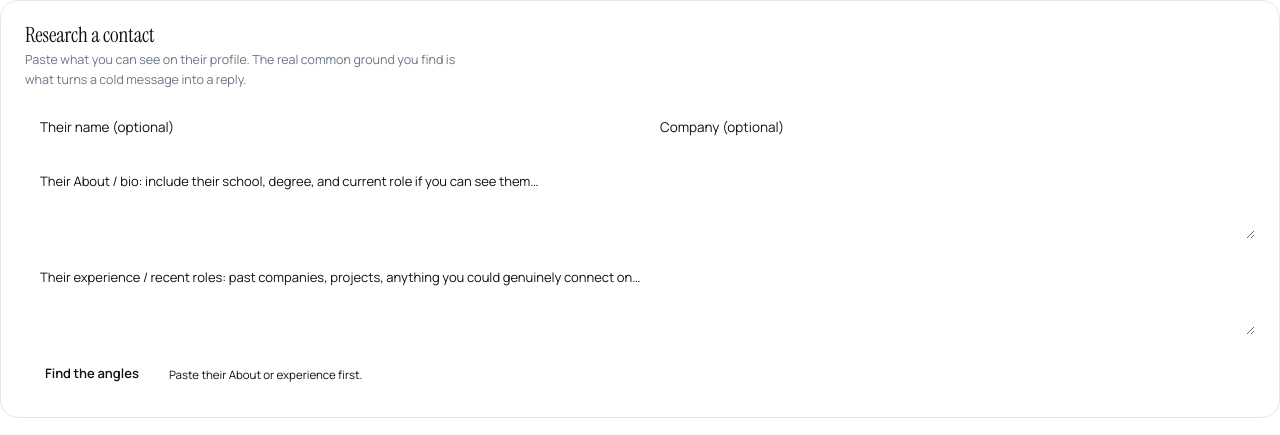
Test: ProfileResearch › enables once an About or experience is entered
This screenshot has width=1280, height=435.
Replace the text in the text box with placeholder "Their About" with "Backend engineer, ex-Edinburgh." at coordinates (640, 199), box [25,159,1255,239]
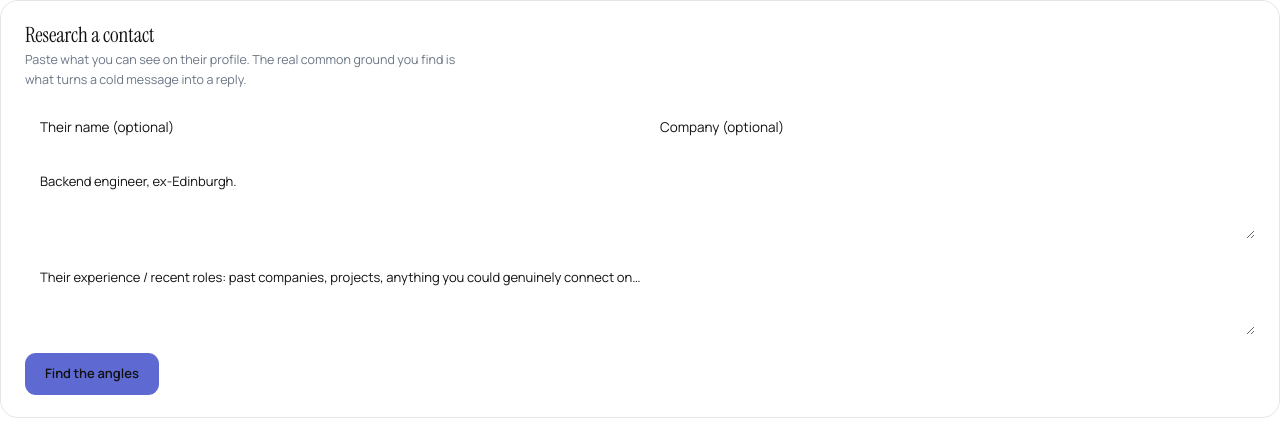
Check: the button "Find the angles" is enabled, box [25,353,159,395]
